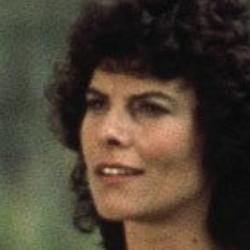face: (45, 10, 243, 234)
